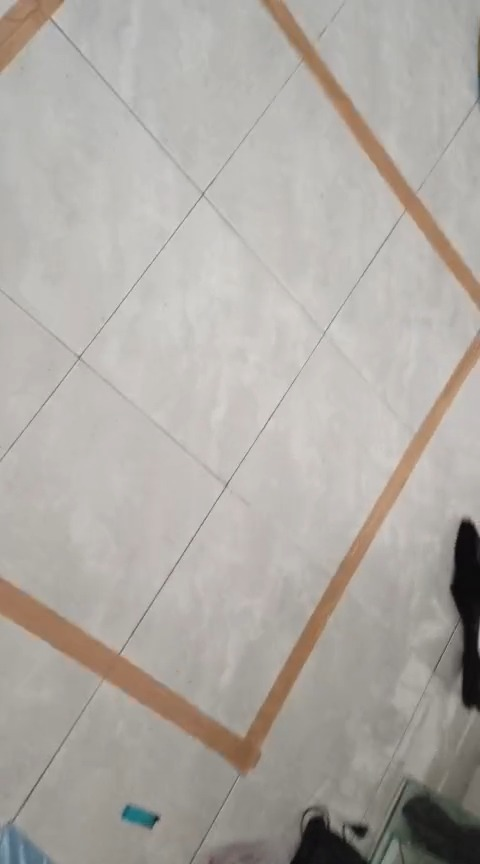floor marking: (0, 335, 479, 772), (261, 0, 479, 308), (0, 0, 62, 71)
